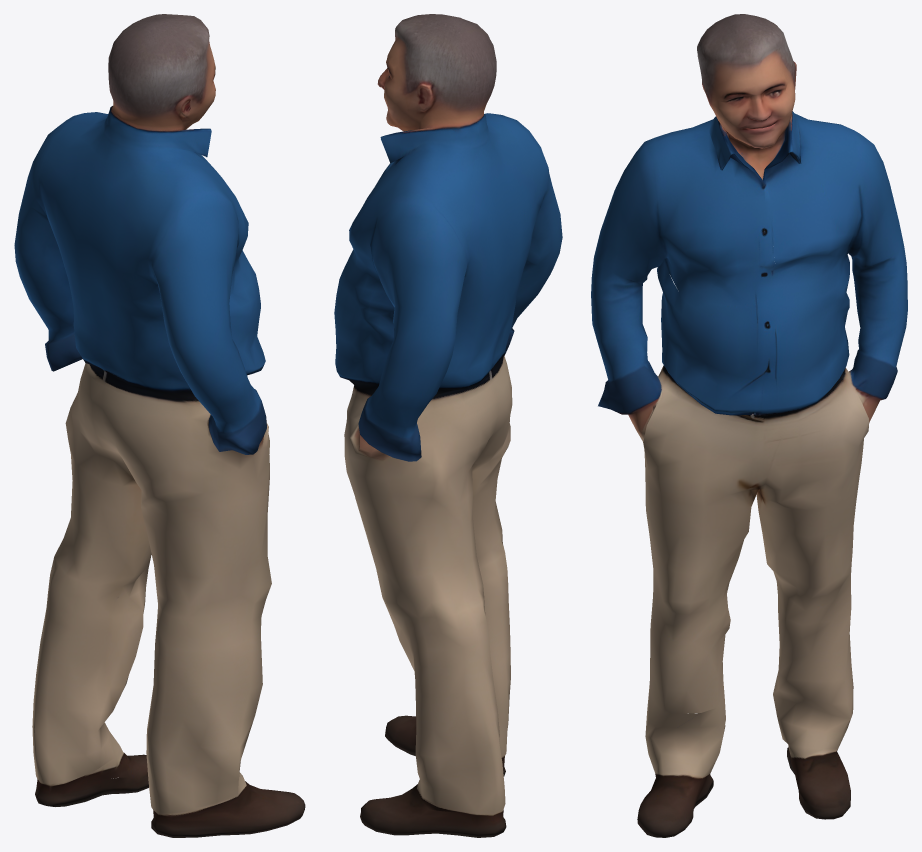
File: original.glb
3 renders of one model, left to right at view 1: azimuth 30°, elevation 25°; view 2: azimuth 150°, elevation 25°; view 3: azimuth 270°, elevation 25°, orthographic.
Visible parts, largest first — view 1: tripo_node_5383733e-6e32-446a-b881-52e1c35903a0; view 2: tripo_node_5383733e-6e32-446a-b881-52e1c35903a0; view 3: tripo_node_5383733e-6e32-446a-b881-52e1c35903a0.
Boxes of the visible parts, box(x1,y1,x2,y2) form: tripo_node_5383733e-6e32-446a-b881-52e1c35903a0: box(14, 14, 305, 837); tripo_node_5383733e-6e32-446a-b881-52e1c35903a0: box(334, 14, 562, 837); tripo_node_5383733e-6e32-446a-b881-52e1c35903a0: box(591, 14, 907, 837).
Bounding box in the file's own units: 0.2534 × 0.9995 × 0.3667.
1 material, 1 textured.
